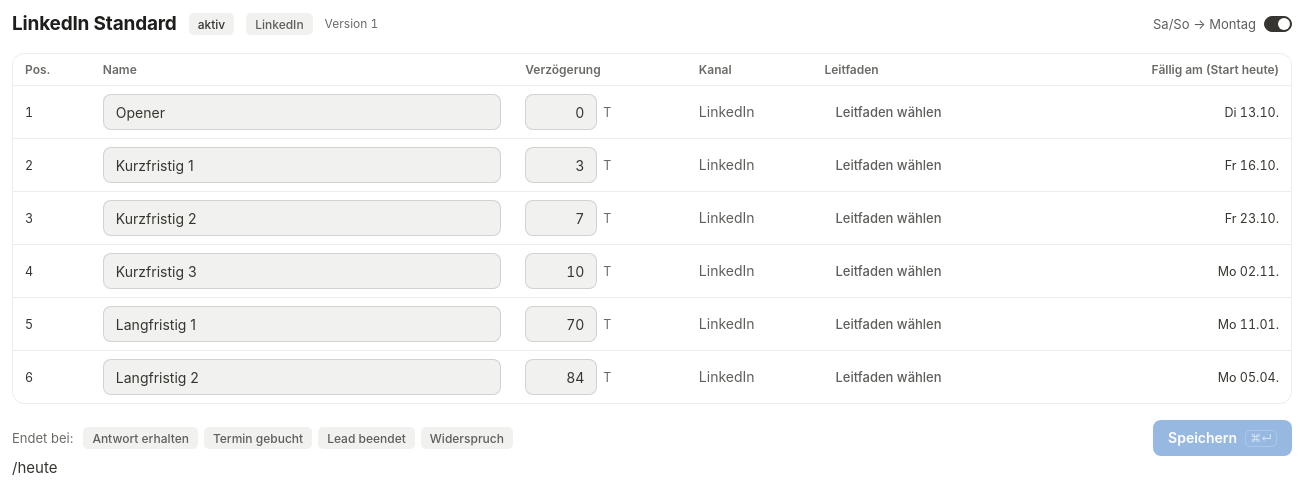
Test: SequenzEditor › ⌘↵ speichert auch aus dem Feld heraus; zurück auf den Originalwert = nichts zu speichern
This screenshot has width=1304, height=492.
Replace the text in the field named "Name Schritt 2" with "KF 1" at (302, 165), box left=116, top=148, right=488, bottom=182
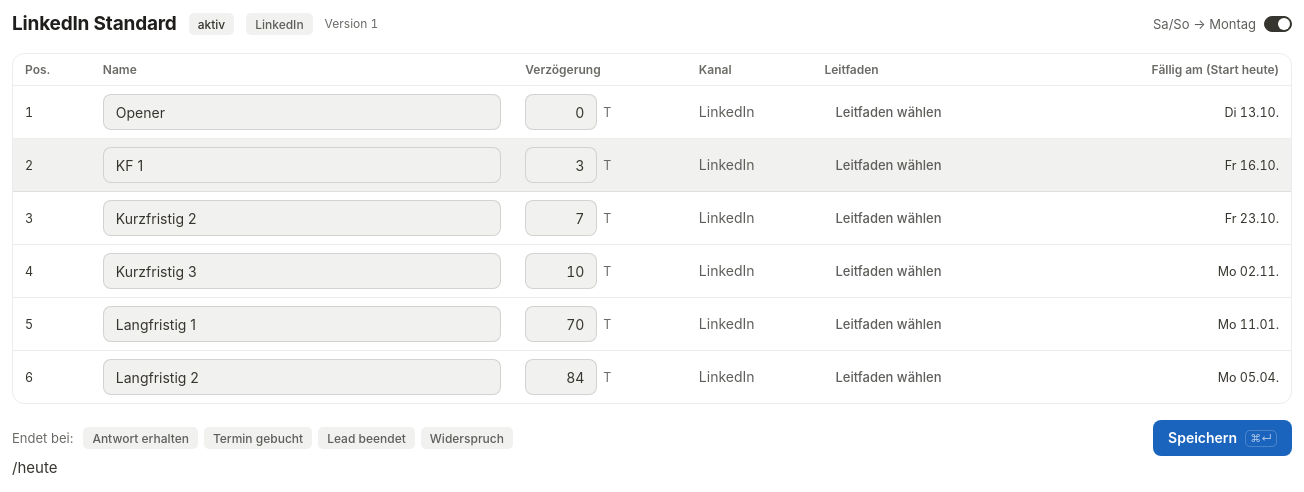
Press Enter in the field named "Name Schritt 2", box left=116, top=148, right=488, bottom=182
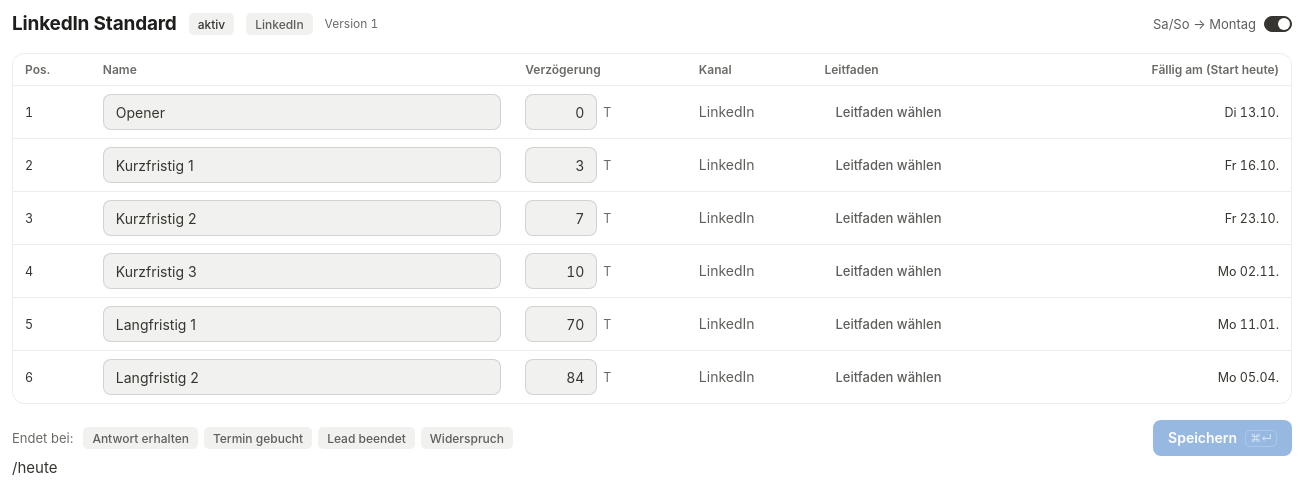
Replace the text in the field named "Verzögerung Schritt 4" with "9" at (561, 271), box left=538, top=254, right=584, bottom=288
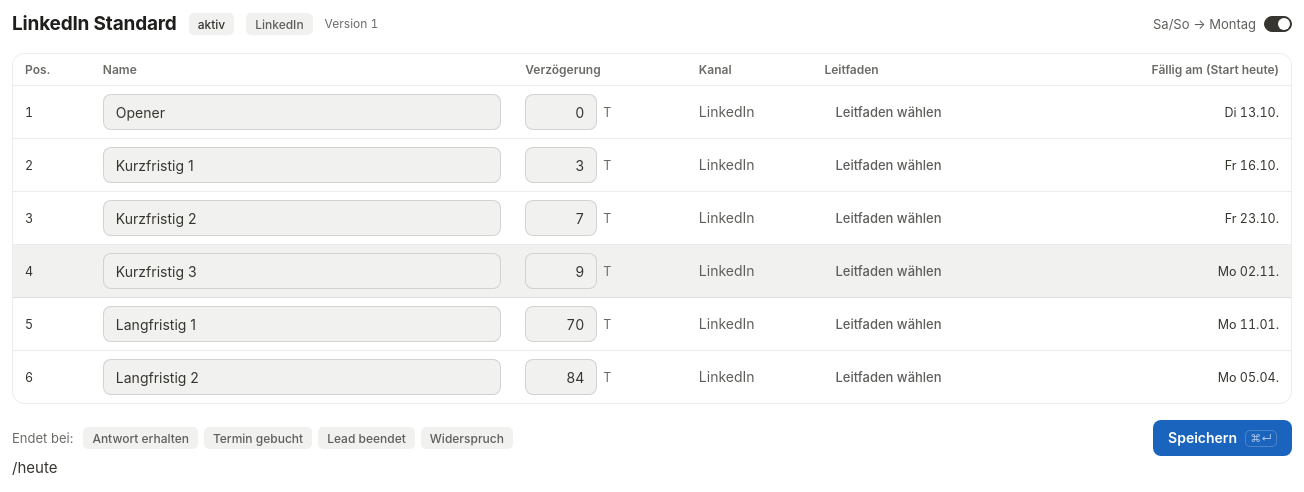
Now the button "Speichern ⌘↵" is enabled, box left=1153, top=420, right=1292, bottom=456
Replace the text in the field named "Verzögerung Schritt 4" with "10" at (561, 271), box left=538, top=254, right=584, bottom=288
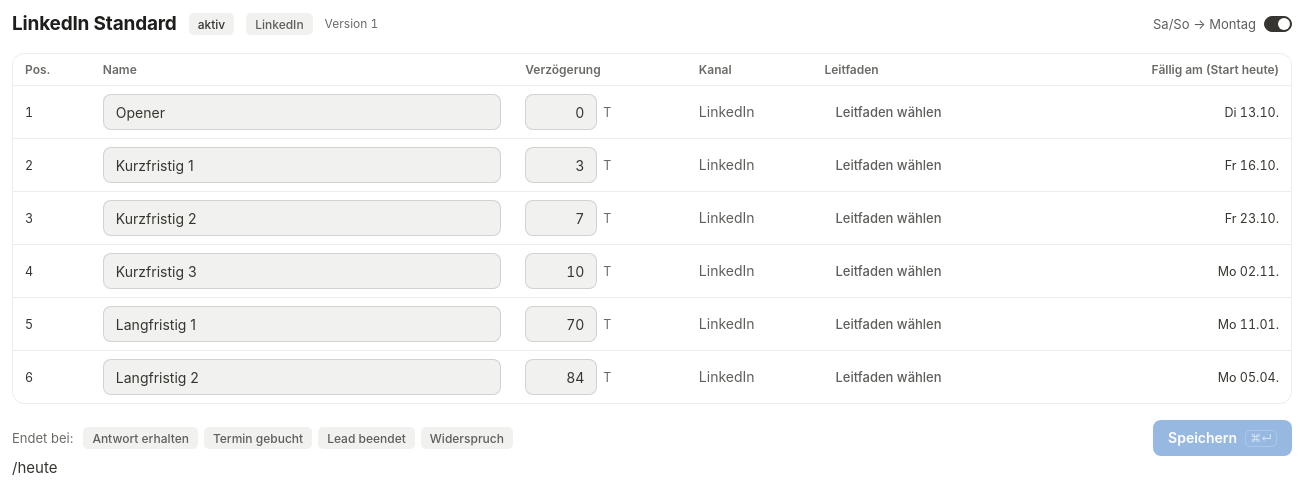
Now the button "Speichern ⌘↵" is disabled, box left=1153, top=420, right=1292, bottom=456
